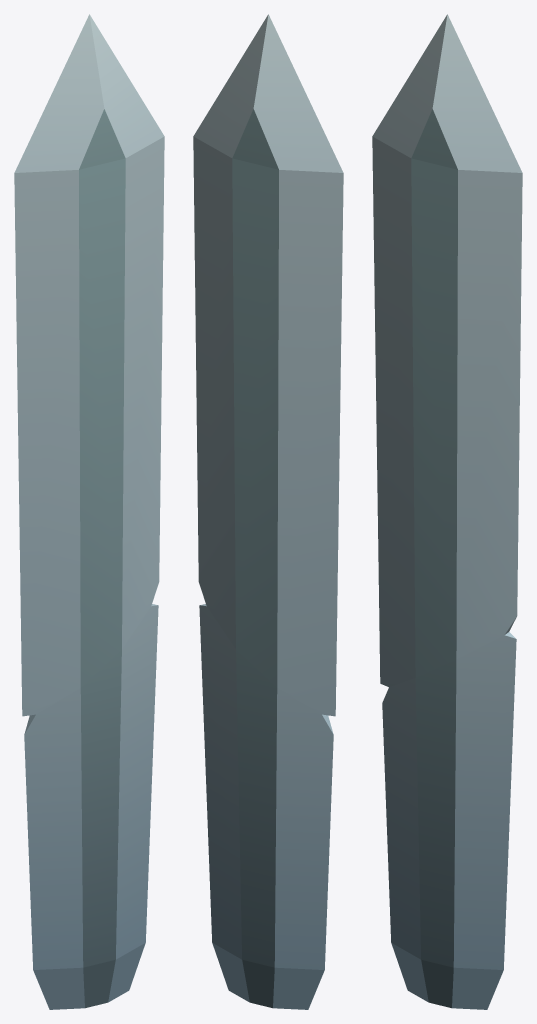
Rendered from blade_010.fbx.
The picture shows the model from 3 angles, left to right: view 1: azimuth 30°, elevation 25°; view 2: azimuth 150°, elevation 25°; view 3: azimuth 330°, elevation 25°; orthographic projection.
Visible parts, largest first — view 1: blade.010; view 2: blade.010; view 3: blade.010.
Boxes of the visible parts, x1,y1,x2,y2 form: blade.010: (14,14,164,1009); blade.010: (193,14,343,1009); blade.010: (372,14,522,1009).
Bounding box in the file's own units: 23.01 × 144 × 7.9.
